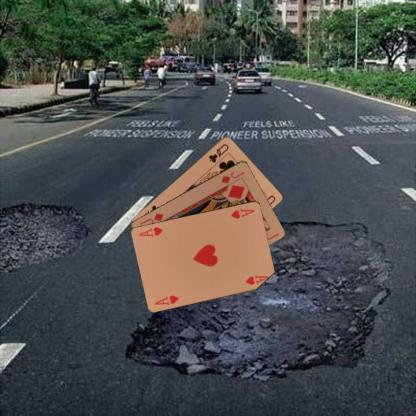Ah: (152, 292, 180, 307), (228, 206, 256, 220)
Jd: (218, 168, 246, 184)
Qc: (206, 140, 230, 164)
